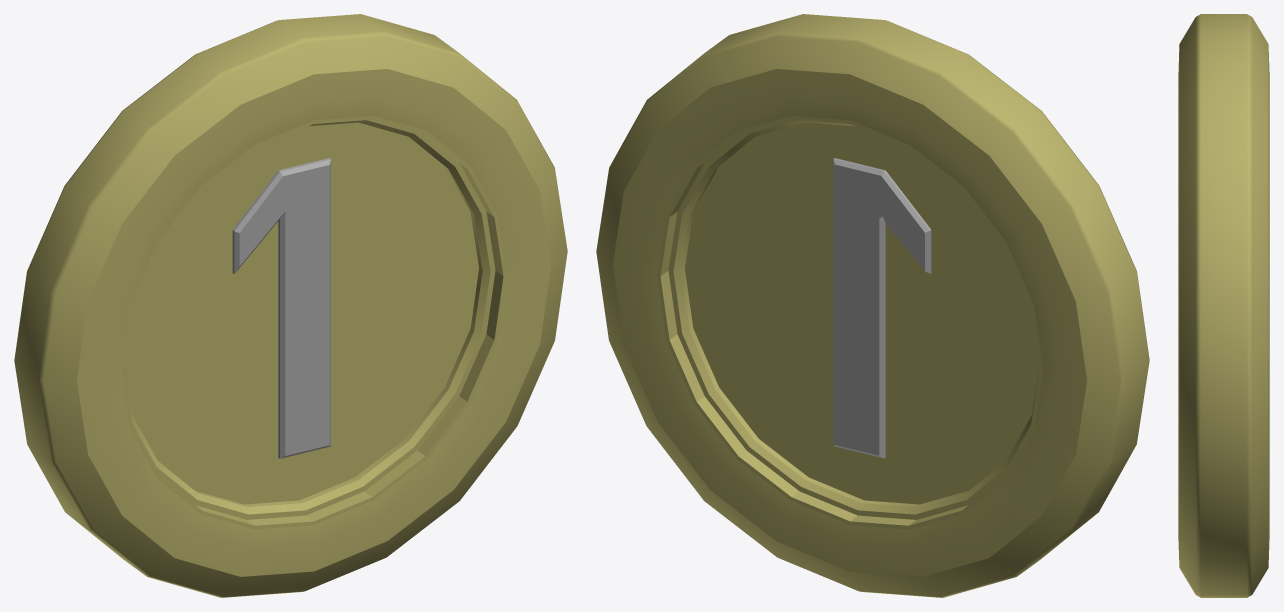
Rendered from Coin_2.fbx.
The picture shows the model from 3 angles, left to right: view 1: azimuth 30°, elevation 25°; view 2: azimuth 150°, elevation 25°; view 3: azimuth 270°, elevation 25°; orthographic projection. The views are drawn at different scales.
Visible parts, largest first — view 1: pasted__Coin, pasted__pasted__pCube1; view 2: pasted__Coin, pasted__pasted__pCube2; view 3: pasted__Coin.
Part boxes in pixels (box(x1,y1,x2,y2)): pasted__Coin: box(14, 14, 567, 597); pasted__pasted__pCube1: box(232, 158, 330, 458); pasted__Coin: box(596, 14, 1149, 597); pasted__pasted__pCube2: box(833, 158, 931, 458); pasted__Coin: box(1178, 14, 1269, 597).
Bounding box in the file's own units: 1.76 × 1.76 × 0.2724.
